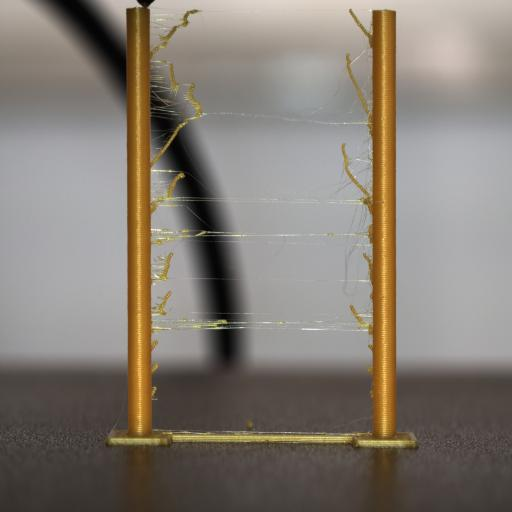stringing: (344, 11, 374, 128), (310, 62, 360, 116), (152, 108, 194, 168), (318, 154, 360, 204), (149, 66, 183, 112), (342, 192, 370, 242), (176, 203, 220, 232), (150, 202, 176, 238), (331, 410, 371, 432), (349, 9, 371, 45), (152, 251, 174, 281), (342, 231, 352, 294), (350, 305, 372, 331), (152, 291, 172, 315), (166, 172, 184, 198), (363, 252, 373, 284), (274, 234, 286, 257), (364, 386, 374, 402), (153, 252, 169, 262), (196, 11, 204, 27), (149, 202, 157, 214), (150, 362, 158, 374), (151, 386, 157, 398), (366, 365, 372, 375)
